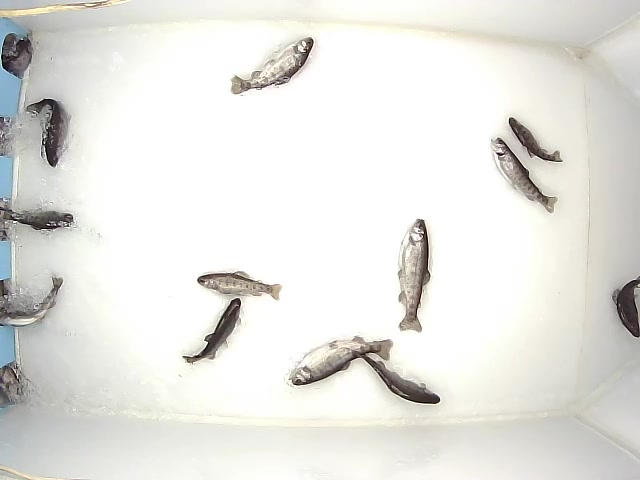fish: (282, 334, 393, 386), (488, 133, 559, 213), (229, 35, 314, 99), (394, 216, 434, 337), (356, 351, 442, 405), (182, 294, 244, 366), (506, 112, 568, 168), (25, 95, 69, 167), (194, 270, 285, 301), (3, 208, 79, 233)
